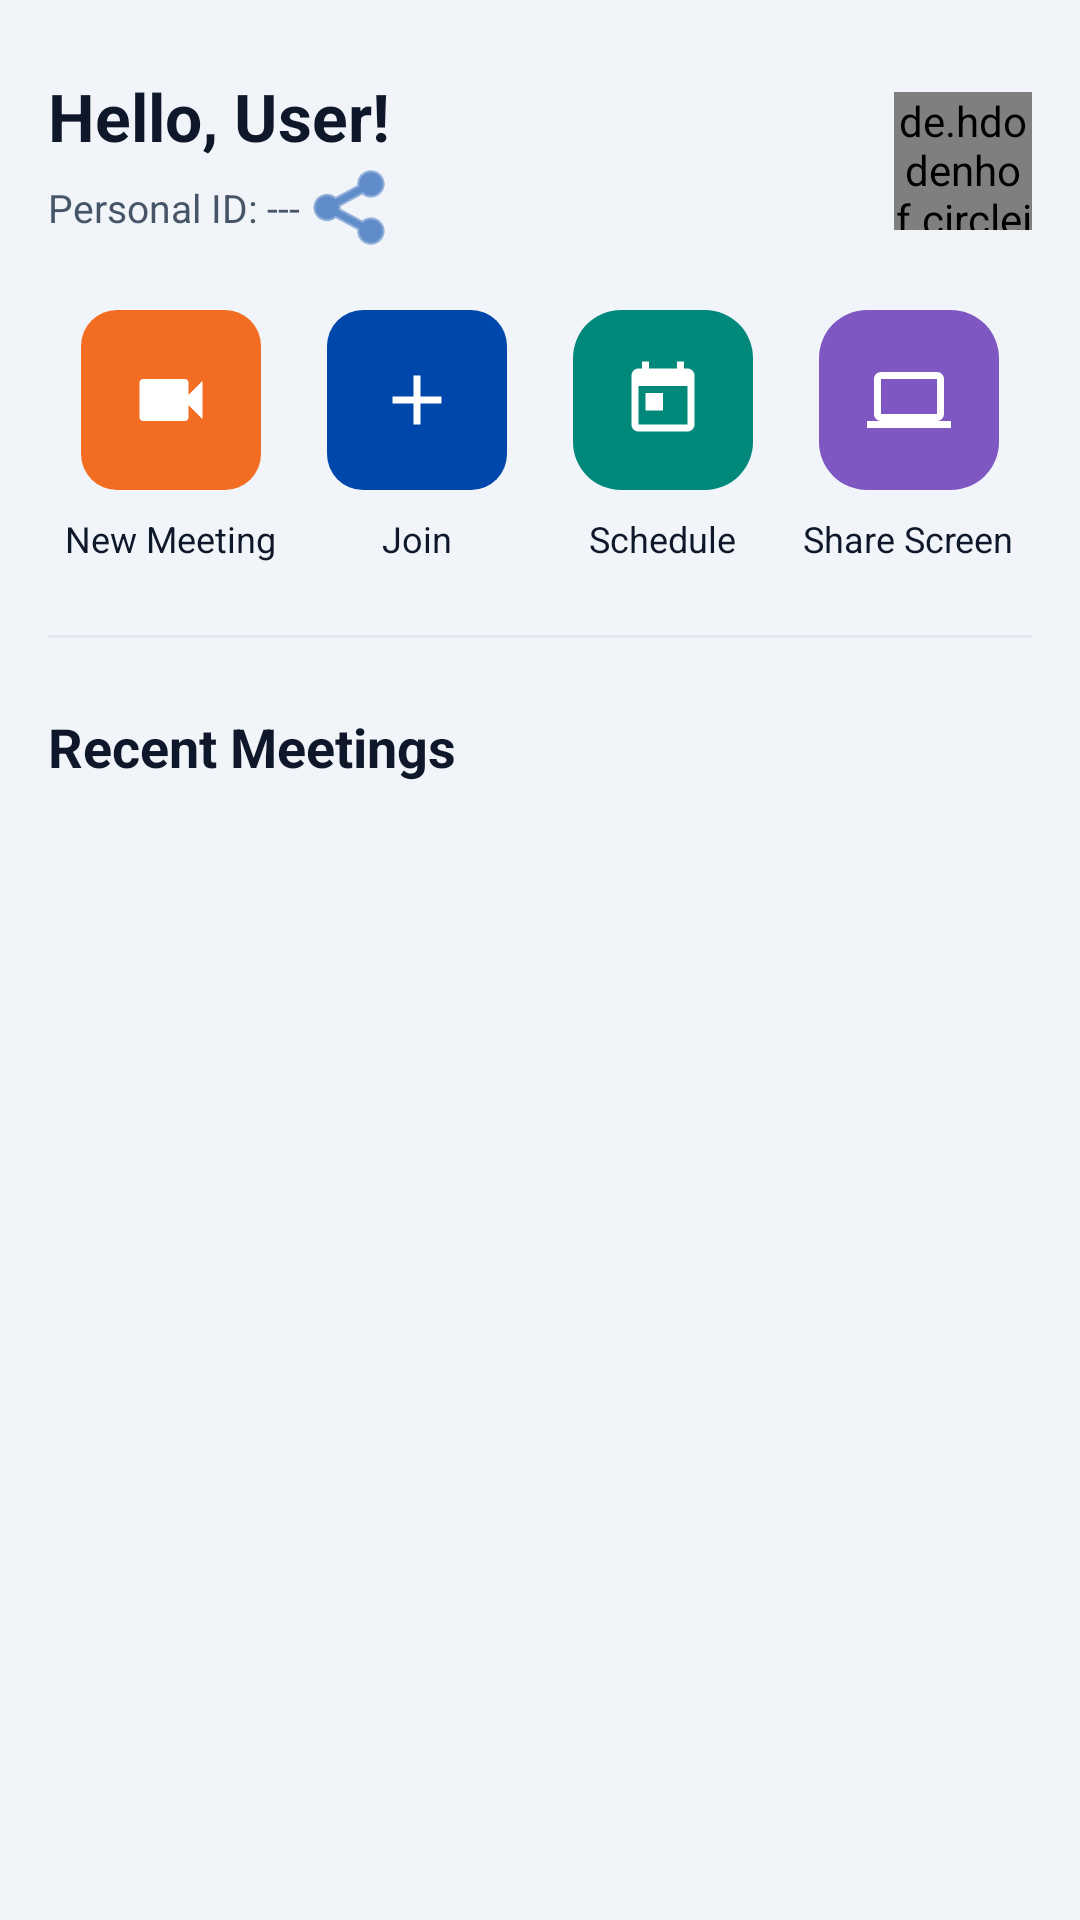

Where to tap for icons on this 1080px×1920px app screen, as (x,y):
add: (417,400)
calendar: (663,396)
video: (171,400)
